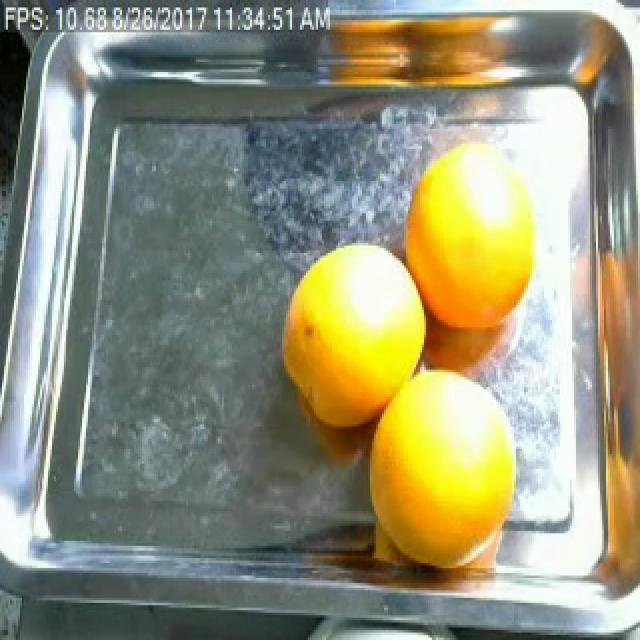Fruit: (268, 226, 438, 434)
